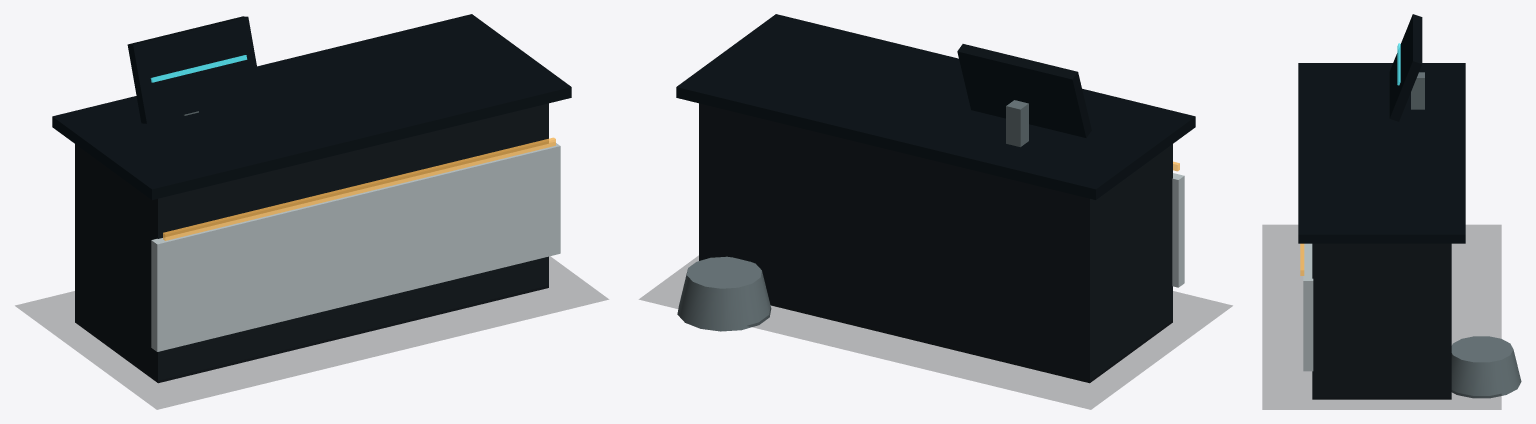
The model's file is hp_room_cyber_security_desk.glb.
3 views of the same model, side by side, from view 1: azimuth 30°, elevation 25°; view 2: azimuth 150°, elevation 25°; view 3: azimuth 270°, elevation 25° (orthographic). The views are drawn at different scales.
Parts seen in each view (by area): view 1: desk_face_armor, glass_top, desk_body, contact_shadow, inset_monitor, service_amber, monitor_scanline; view 2: desk_body, glass_top, contact_shadow, inset_monitor, stool_dock, desk_face_armor, monitor_arm; view 3: glass_top, desk_body, contact_shadow, stool_dock, inset_monitor, desk_face_armor, monitor_arm.
Part boxes in pixels (box(x1,y1,x2,y2)): desk_face_armor: box(151, 142, 560, 351); glass_top: box(52, 14, 571, 199); desk_body: box(75, 103, 548, 383); contact_shadow: box(15, 256, 608, 409); inset_monitor: box(127, 16, 261, 123); service_amber: box(163, 137, 555, 240); monitor_scanline: box(150, 55, 247, 82); desk_body: box(699, 103, 1172, 383); glass_top: box(676, 14, 1195, 199); contact_shadow: box(639, 256, 1232, 409); inset_monitor: box(957, 44, 1091, 137); stool_dock: box(677, 256, 771, 331); desk_face_armor: box(1172, 173, 1184, 287); monitor_arm: box(1006, 100, 1028, 147); glass_top: box(1298, 63, 1465, 243); desk_body: box(1312, 243, 1451, 399); contact_shadow: box(1262, 225, 1501, 409); stool_dock: box(1451, 336, 1521, 398); inset_monitor: box(1389, 14, 1422, 121); desk_face_armor: box(1303, 243, 1313, 371); monitor_arm: box(1411, 72, 1424, 109).
Size of the model in its own units: 2.2 by 1.33 by 1.3.
